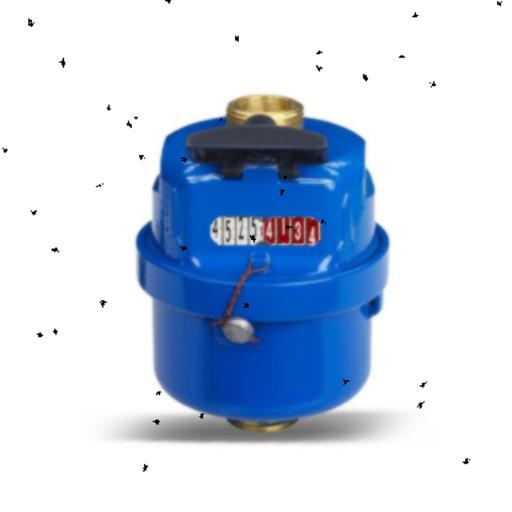1: (279, 217, 290, 245)
2: (236, 217, 248, 246)
3: (292, 217, 304, 245)
4: (307, 217, 323, 245), (210, 218, 223, 245), (264, 217, 276, 245)
5: (250, 217, 263, 246), (223, 217, 235, 244)
border_water_meter_number: (210, 217, 323, 246)
